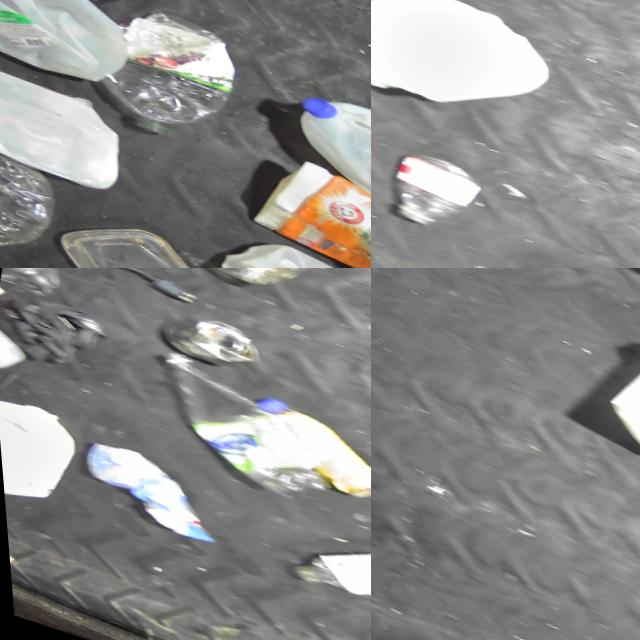can: (151, 300, 263, 376)
milk_jug: (371, 0, 560, 135), (0, 36, 135, 194), (268, 71, 371, 216), (0, 0, 142, 91), (584, 280, 640, 506), (197, 205, 371, 268), (0, 387, 81, 516)
plastic_bottle: (130, 342, 340, 506), (72, 0, 245, 142), (372, 136, 483, 236), (0, 113, 59, 268)
